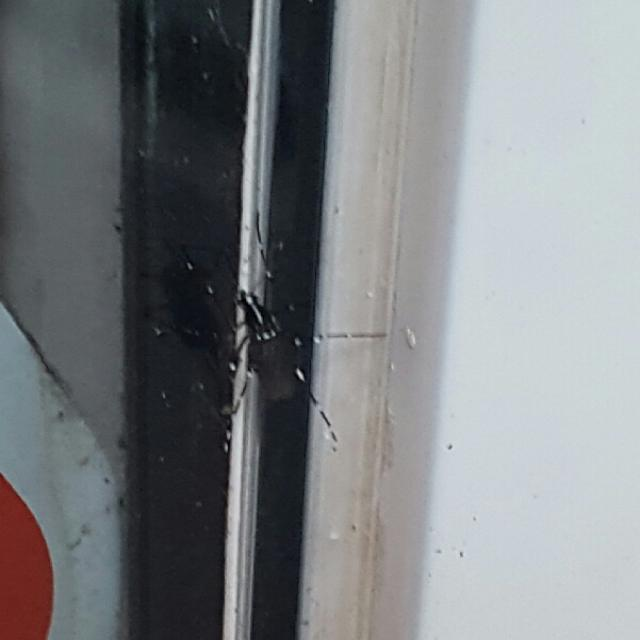albopictus: (149, 276, 356, 451)
